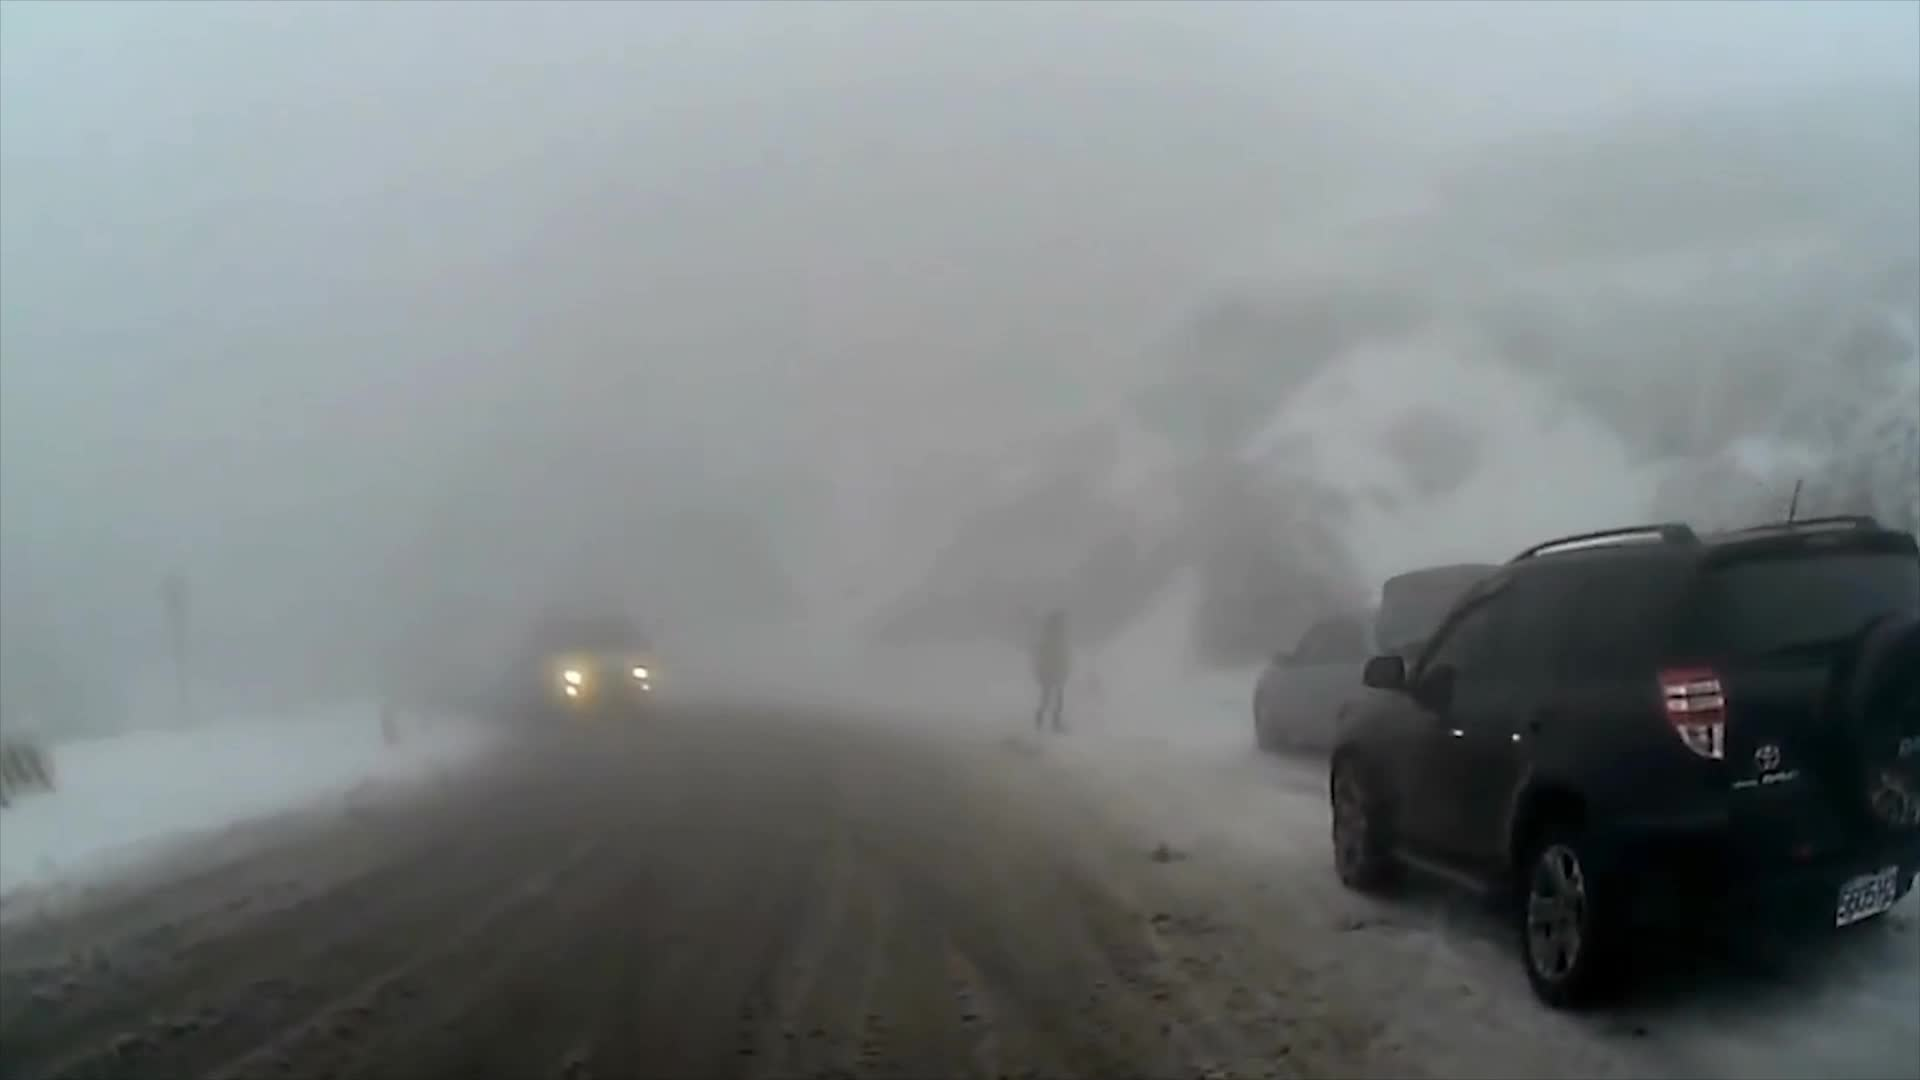pedestrian: (1027, 615, 1071, 728)
vehicle: (1325, 508, 1919, 1015), (1249, 556, 1565, 772), (526, 603, 659, 724)
